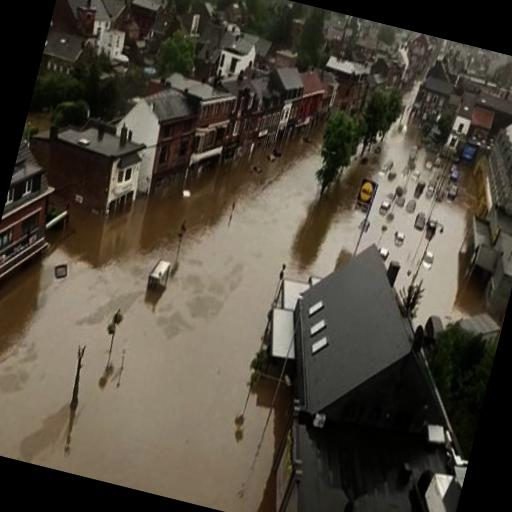house: (272, 232, 478, 446), (0, 131, 68, 339), (119, 74, 237, 187), (46, 125, 146, 219), (467, 112, 512, 224), (260, 58, 314, 126), (320, 52, 367, 112), (212, 32, 260, 84), (51, 0, 116, 35), (40, 28, 88, 73), (418, 75, 453, 115)
